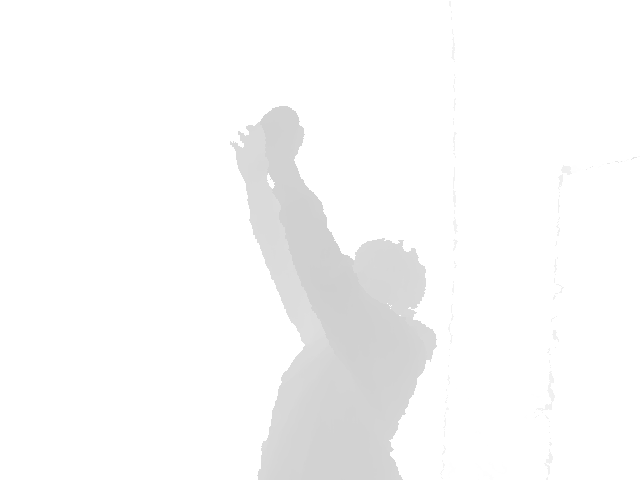hand: (260, 106, 306, 160), (230, 122, 271, 179)
head: (349, 239, 426, 329)
person: (228, 104, 438, 479)
